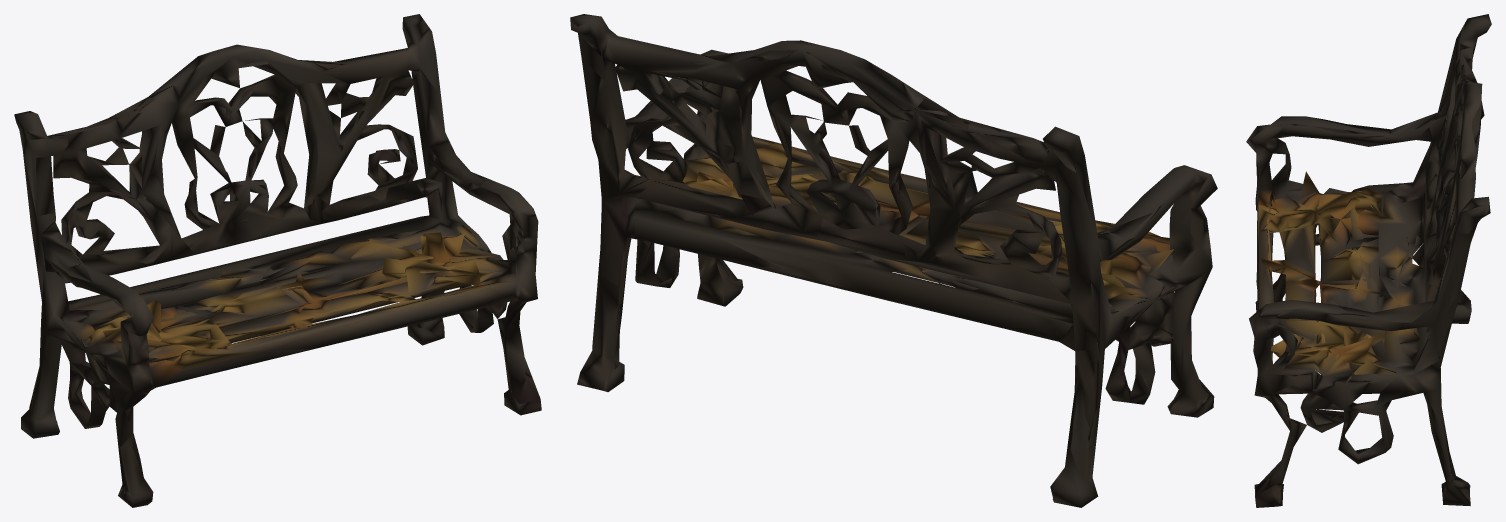
The model's file is gen3d-cemetery-bench-lod0.glb.
3 renders of one model, left to right at view 1: azimuth 30°, elevation 25°; view 2: azimuth 150°, elevation 25°; view 3: azimuth 270°, elevation 25°, orthographic. The views are drawn at different scales.
Parts seen in each view (by area): view 1: part_0; view 2: part_0; view 3: part_0.
Boxes of the visible parts, box(x1,y1,x2,y2) form: part_0: box(14, 14, 541, 507); part_0: box(570, 14, 1217, 507); part_0: box(1246, 14, 1491, 507).
Size of the model in its own units: 1.3 by 0.9942 by 0.6882.
